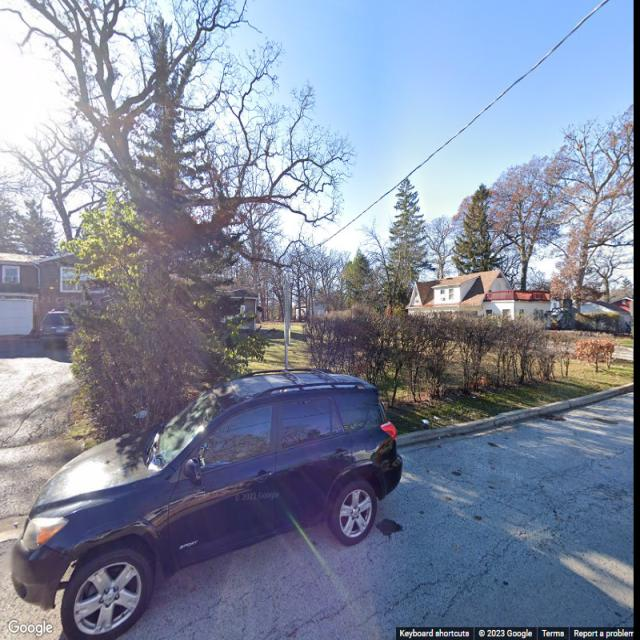House: (408, 268, 552, 334), (0, 252, 113, 335)
